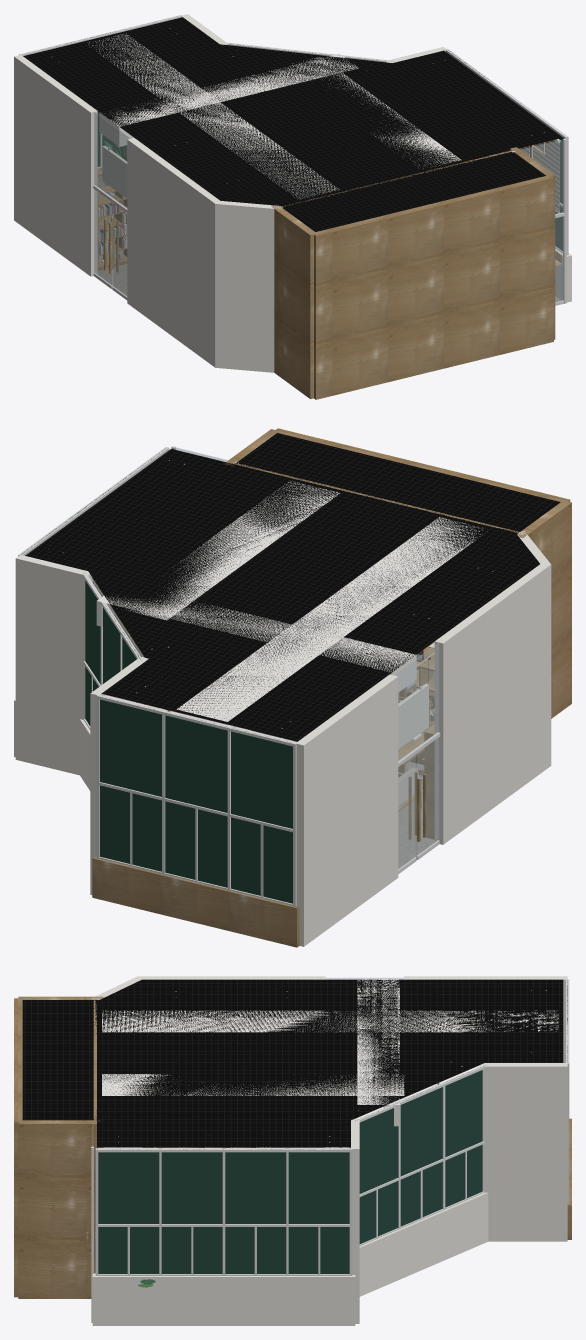
File: coffee_shop.fbx
3 views of the same model, one above another, from view 1: azimuth 30°, elevation 25°; view 2: azimuth 150°, elevation 25°; view 3: azimuth 270°, elevation 25° (orthographic). The views are drawn at different scales.
Parts seen in each view (by area): view 1: Ceiling_Grid, Wall_7, Wall_10, Wall_12, Ceiling_Soffits, Wall_9, Wall_8, Door_door_left, Wall_Window_4, Door_door_right, Divider_Bookshelf, Wall_Window_0 (+4 smaller); view 2: Ceiling_Grid, Wall_Window_0, Ceiling_Soffits, Wall_10, Wall_12, Wall_3, Door_door_left, Wall_8, Wall_Window_2, Wall_1, Wall_7, Entrance_Lightbox (+5 smaller); view 3: Ceiling_Grid, Wall_Window_4, Wall_Window_2, Wall_1, Wall_6, Ceiling_Soffits, Wall_7, Wall_3, Wall_Window_0, Wall_12, Wall_10, Door_door_right (+1 smaller).
Boxes of the visible parts, x1=… form: Ceiling_Grid: x1=23, y1=17, x2=562, y2=231; Wall_7: x1=312, y1=175, x2=553, y2=399; Wall_10: x1=127, y1=138, x2=221, y2=367; Wall_12: x1=14, y1=55, x2=97, y2=276; Ceiling_Soffits: x1=89, y1=33, x2=461, y2=198; Wall_9: x1=215, y1=201, x2=282, y2=372; Wall_8: x1=271, y1=205, x2=315, y2=399; Door_door_left: x1=91, y1=109, x2=132, y2=300; Wall_Window_4: x1=446, y1=49, x2=571, y2=302; Door_door_right: x1=512, y1=138, x2=566, y2=305; Divider_Bookshelf: x1=97, y1=185, x2=127, y2=270; Wall_Window_0: x1=19, y1=15, x2=181, y2=187; Ceiling_Grid: x1=25, y1=433, x2=560, y2=741; Wall_Window_0: x1=92, y1=694, x2=299, y2=947; Ceiling_Soffits: x1=96, y1=481, x2=482, y2=730; Wall_10: x1=434, y1=564, x2=550, y2=844; Wall_12: x1=295, y1=674, x2=398, y2=946; Wall_3: x1=15, y1=555, x2=92, y2=775; Door_door_left: x1=390, y1=639, x2=443, y2=873; Wall_8: x1=517, y1=500, x2=571, y2=718; Wall_Window_2: x1=80, y1=571, x2=149, y2=790; Wall_1: x1=90, y1=656, x2=149, y2=894; Wall_7: x1=274, y1=428, x2=570, y2=502; Entrance_Lightbox: x1=398, y1=684, x2=428, y2=749; Ceiling_Grid: x1=22, y1=979, x2=563, y2=1147; Wall_Window_4: x1=92, y1=1148, x2=355, y2=1325; Wall_Window_2: x1=349, y1=1063, x2=489, y2=1296; Wall_1: x1=480, y1=1063, x2=567, y2=1241; Wall_6: x1=18, y1=1120, x2=101, y2=1298; Ceiling_Soffits: x1=102, y1=979, x2=558, y2=1126; Wall_7: x1=14, y1=998, x2=22, y2=1297; Wall_3: x1=351, y1=1118, x2=359, y2=1323; Wall_Window_0: x1=566, y1=979, x2=571, y2=1239; Wall_12: x1=403, y1=976, x2=567, y2=1084; Wall_10: x1=137, y1=976, x2=325, y2=1147; Door_door_right: x1=86, y1=1120, x2=95, y2=1322.
Size of the model in its own units: 1005 by 450 by 1300.
Materials: 58 (13 with a texture image).
